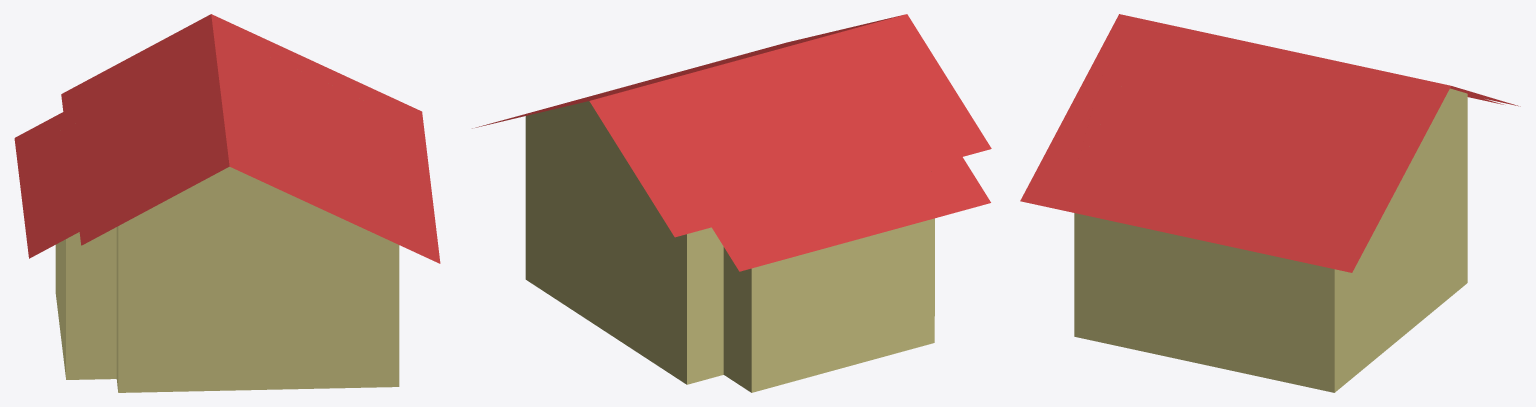
The picture shows the model from 3 angles, left to right: view 1: azimuth 30°, elevation 25°; view 2: azimuth 150°, elevation 25°; view 3: azimuth 270°, elevation 25°; orthographic projection. The views are drawn at different scales.
Size of the model in its own units: 19.72 by 18.64 by 10.17.
